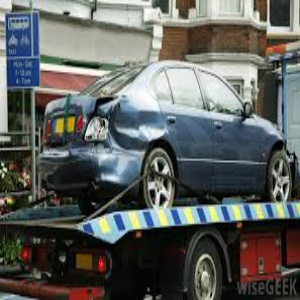bumper: (49, 149, 121, 189)
